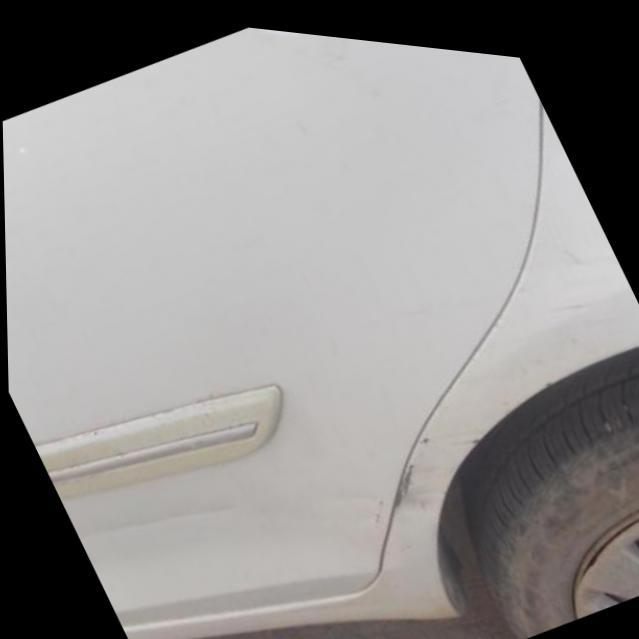crack: (384, 449, 412, 504), (409, 419, 481, 439)
